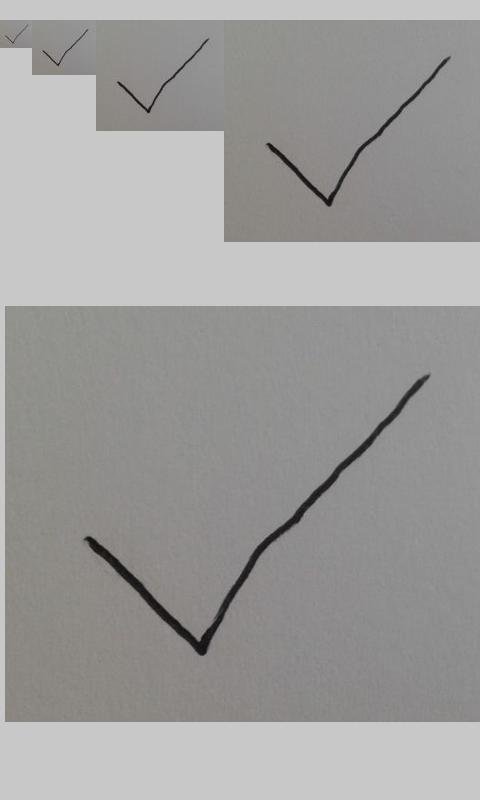check_box: (83, 376, 428, 655), (267, 57, 449, 206), (117, 38, 209, 114), (42, 29, 88, 67), (4, 24, 28, 44)
